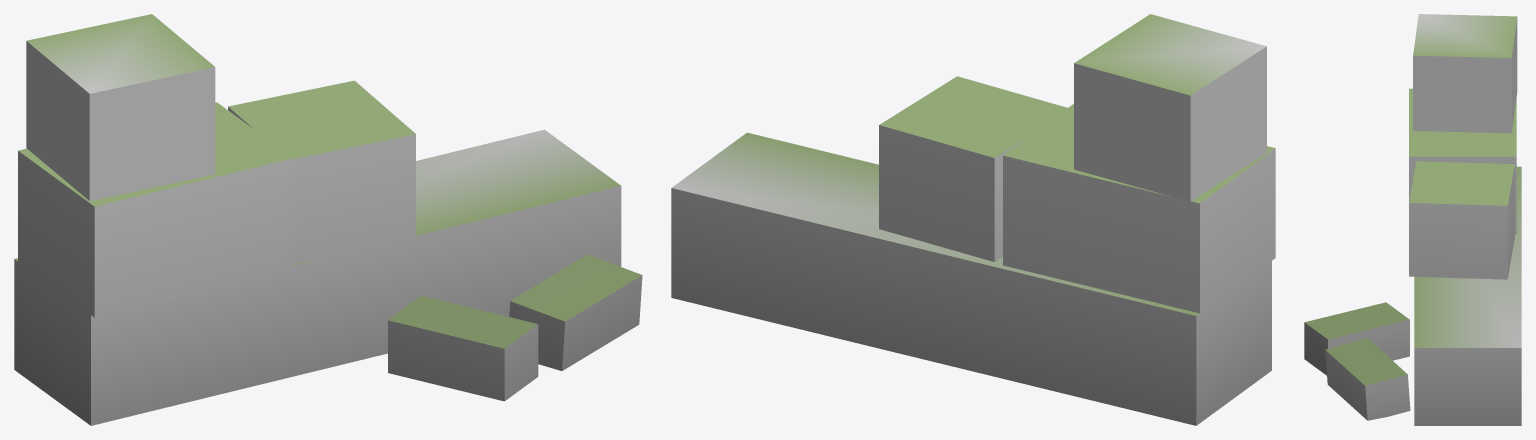
The model's file is wall_low.glb.
3 renders of one model, left to right at view 1: azimuth 30°, elevation 25°; view 2: azimuth 150°, elevation 25°; view 3: azimuth 270°, elevation 25°, orthographic. The views are drawn at different scales.
Visible parts, largest first — view 1: wall_low; view 2: wall_low; view 3: wall_low.
Part boxes in pixels (bbox=[...]): wall_low: bbox=[14, 14, 642, 425]; wall_low: bbox=[671, 14, 1275, 425]; wall_low: bbox=[1304, 14, 1521, 425].
Size of the model in its own units: 2 by 1.19 by 1.01.
